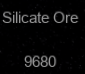Silicate: (2, 11, 79, 68)
